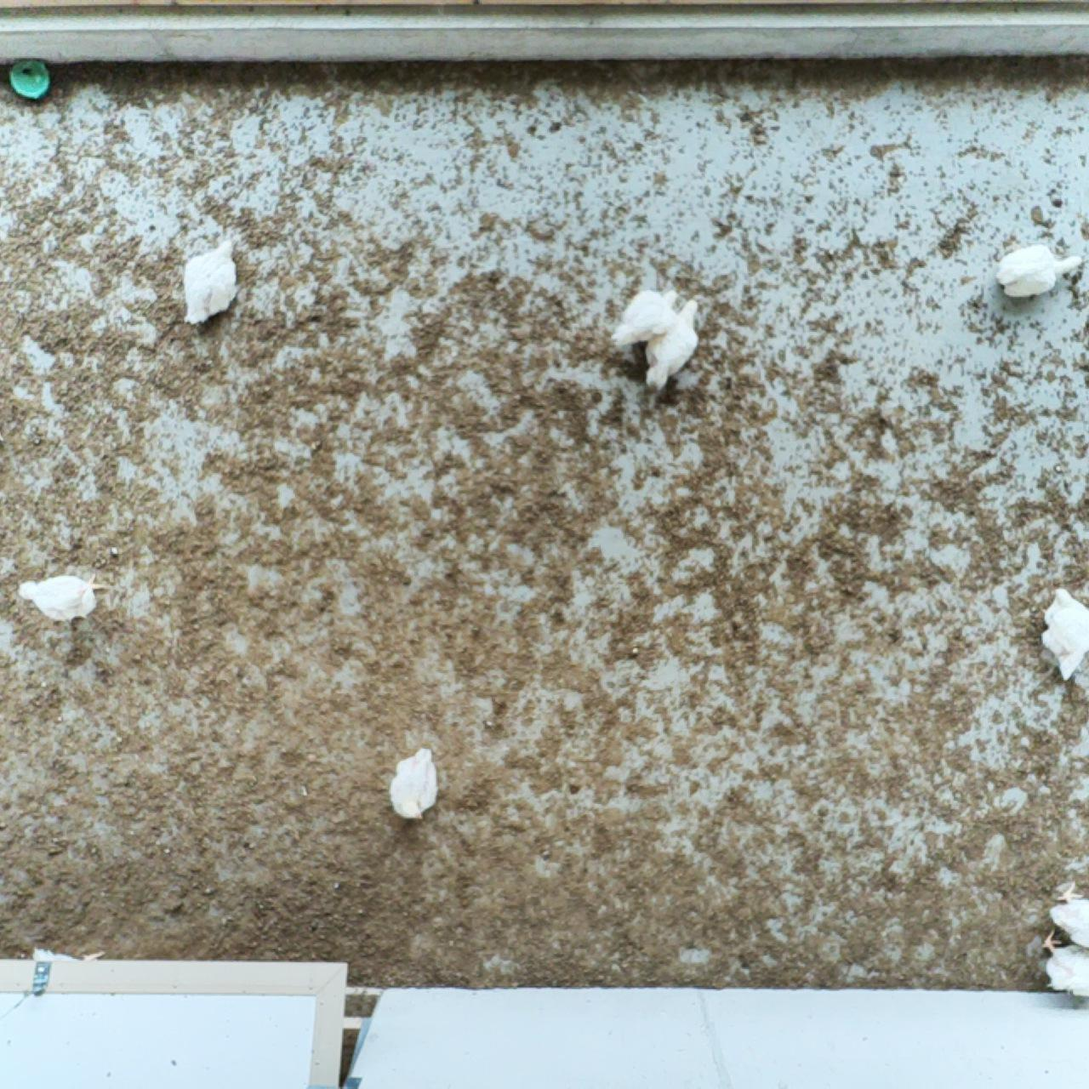chicken: (178, 236, 253, 329), (637, 293, 703, 393), (12, 566, 107, 629), (992, 240, 1087, 302), (1036, 584, 1089, 686), (383, 744, 442, 827), (606, 286, 683, 349), (1036, 922, 1089, 1000), (1042, 876, 1089, 952)
